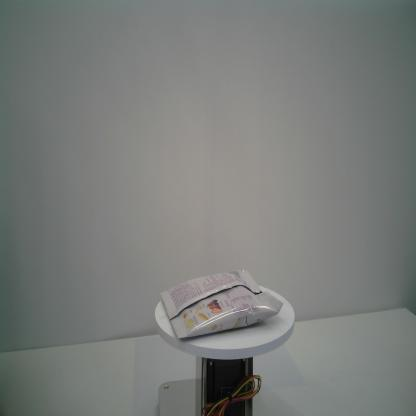Instant Drink: (159, 269, 283, 339)
